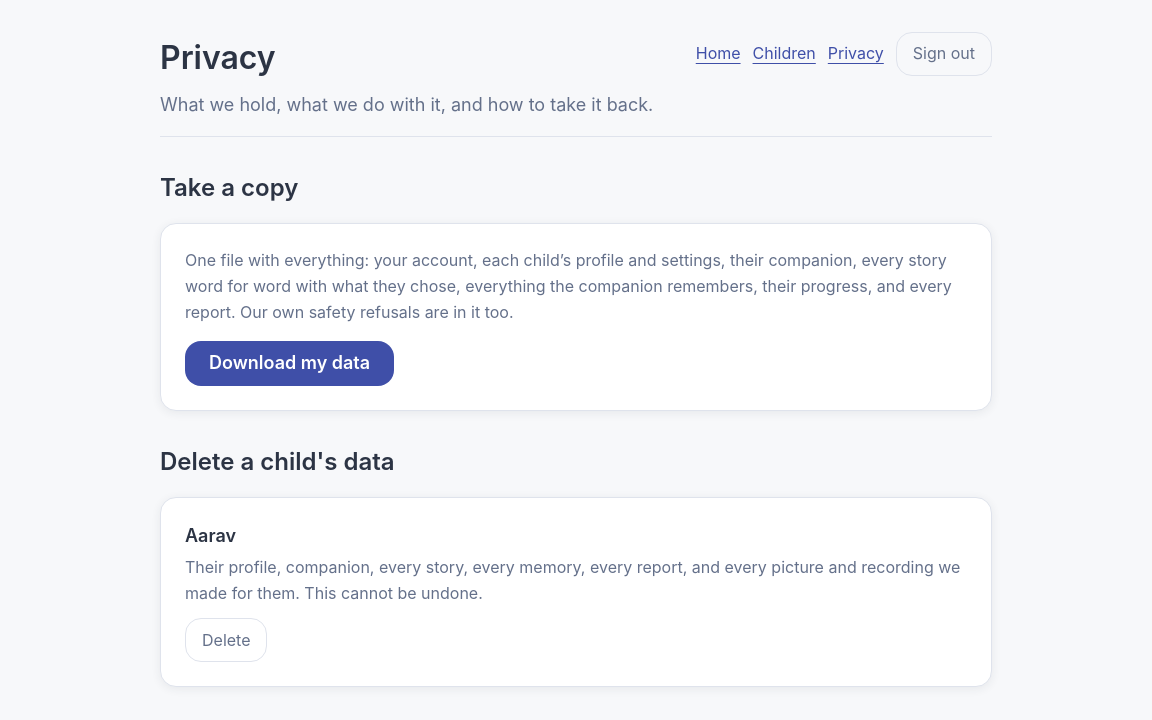
Test case: the privacy centre › will not delete a child until their name is typed
The width and height of the screenshot is (1152, 720).
Click the button "Delete" at (226, 640), box [185, 618, 268, 662]
(page scrolled)
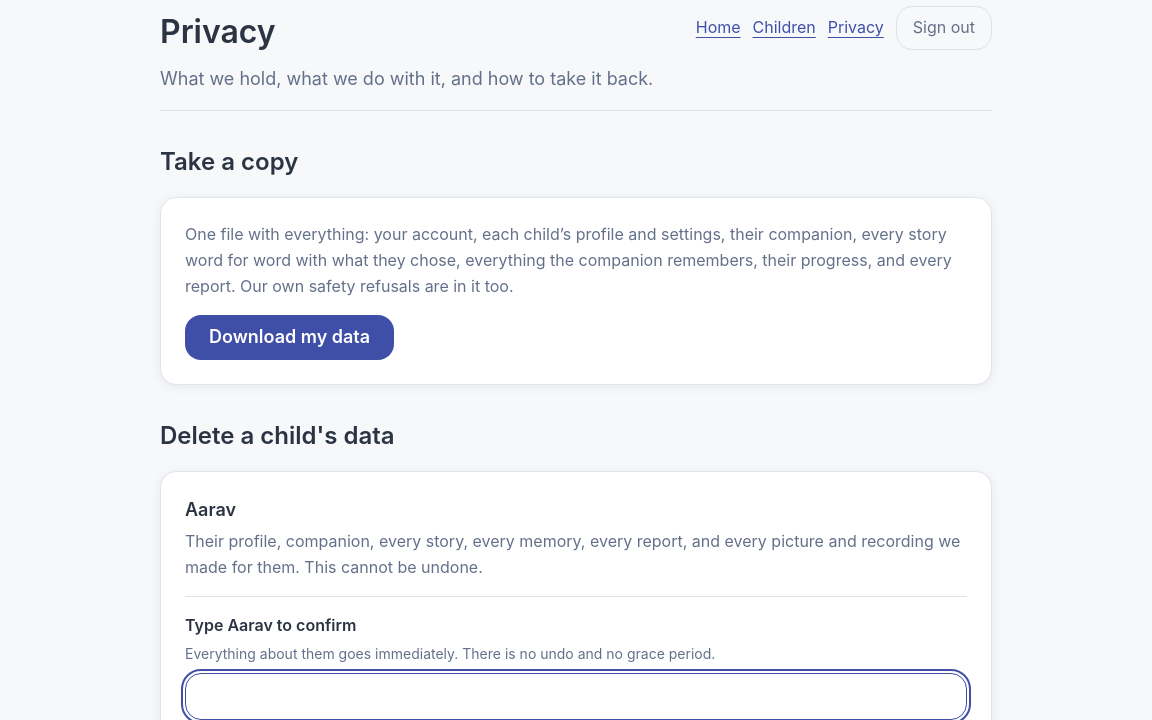
Type "Aarav" into the field with test id "confirm-child-name" at (576, 697), box [185, 673, 967, 719]
(page scrolled)
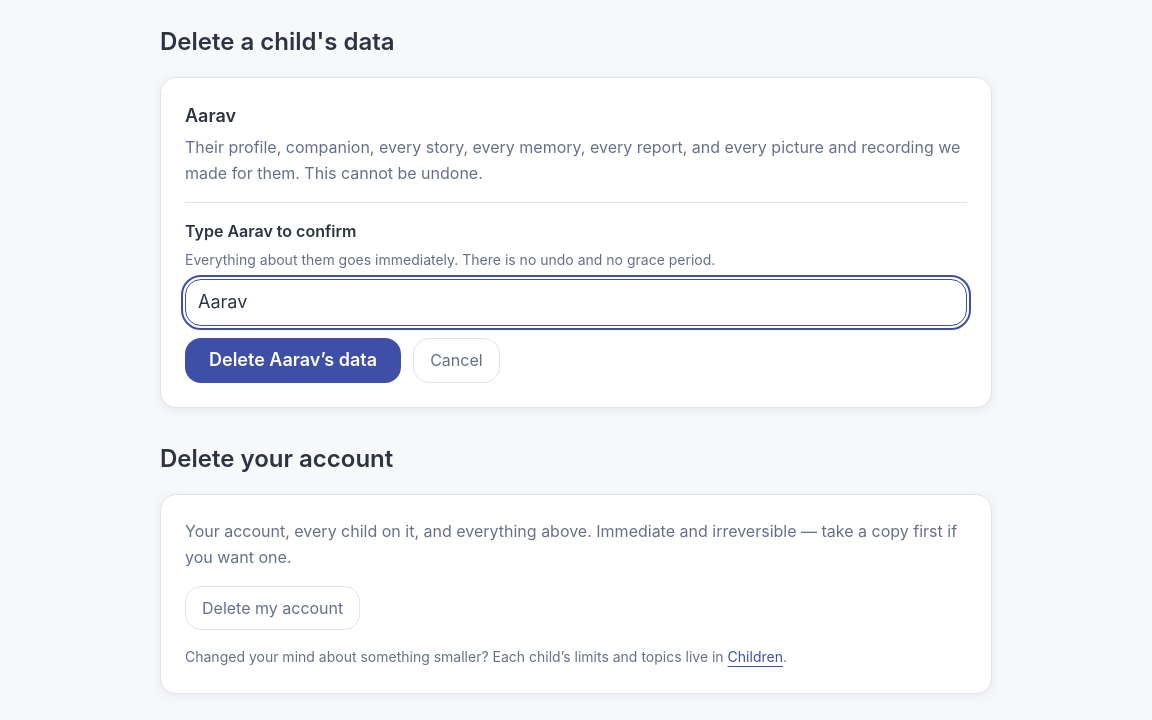
Check: the button with test id "confirm-delete-child" is enabled, box [185, 338, 401, 383]
